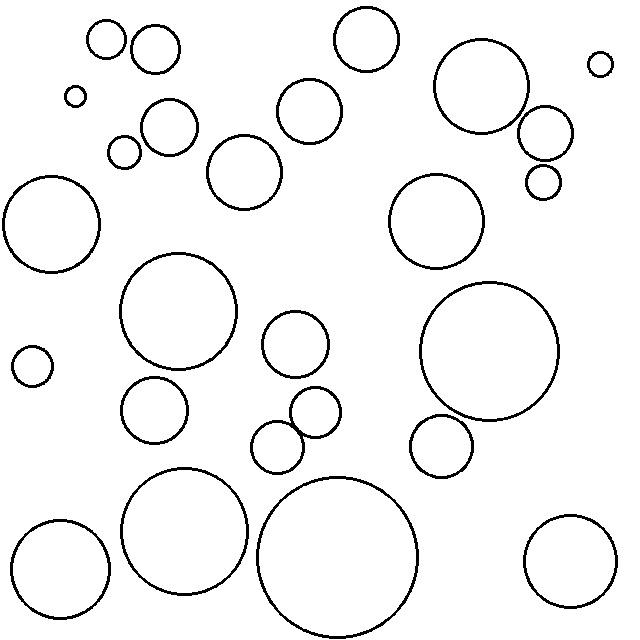circle: (252, 473, 424, 639), (417, 276, 564, 422), (116, 462, 254, 599), (116, 248, 242, 375), (7, 517, 114, 623), (0, 172, 105, 277), (429, 34, 534, 138), (385, 167, 489, 272), (520, 510, 621, 613), (202, 129, 286, 214), (257, 306, 334, 382), (116, 373, 193, 449), (273, 72, 346, 148), (331, 4, 404, 78), (408, 411, 476, 484), (137, 92, 203, 161), (513, 100, 579, 165), (248, 418, 308, 479), (286, 382, 344, 441), (129, 21, 185, 79), (9, 339, 58, 392), (83, 14, 130, 64), (522, 158, 566, 205), (104, 132, 147, 172), (583, 48, 618, 82), (60, 81, 92, 113)
